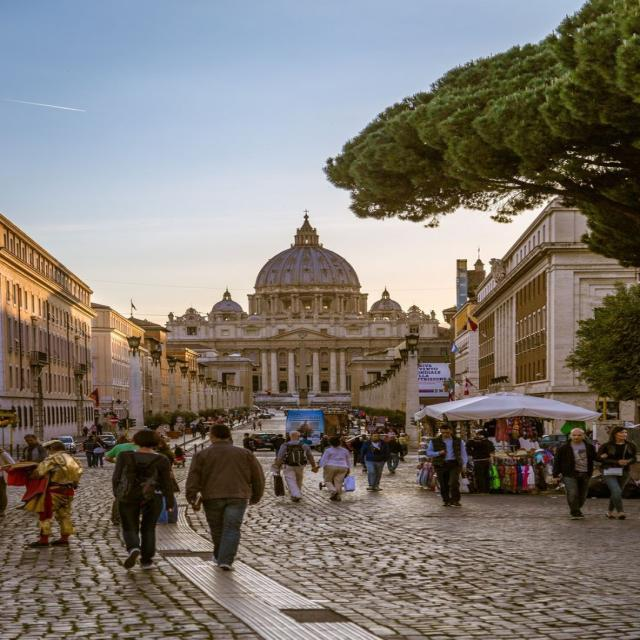body: (183, 422, 267, 572), (110, 427, 178, 572), (22, 438, 85, 549), (550, 426, 608, 520), (592, 425, 639, 521), (424, 423, 469, 507), (273, 429, 321, 503), (102, 437, 141, 528), (309, 436, 353, 502), (152, 437, 183, 525), (14, 433, 49, 510), (329, 408, 408, 436), (464, 430, 496, 496), (358, 431, 392, 492), (199, 408, 291, 425), (385, 435, 405, 475), (0, 448, 17, 484), (90, 436, 109, 468), (81, 434, 98, 468), (350, 437, 366, 467), (243, 432, 260, 454), (272, 434, 286, 460), (398, 432, 410, 462), (108, 431, 133, 445), (172, 446, 187, 468), (319, 434, 330, 456), (297, 434, 313, 445), (88, 423, 98, 438), (95, 423, 104, 436), (190, 424, 198, 438), (199, 425, 206, 439), (82, 426, 90, 438), (250, 421, 258, 432), (359, 434, 370, 442), (178, 424, 185, 436), (255, 419, 262, 431)
